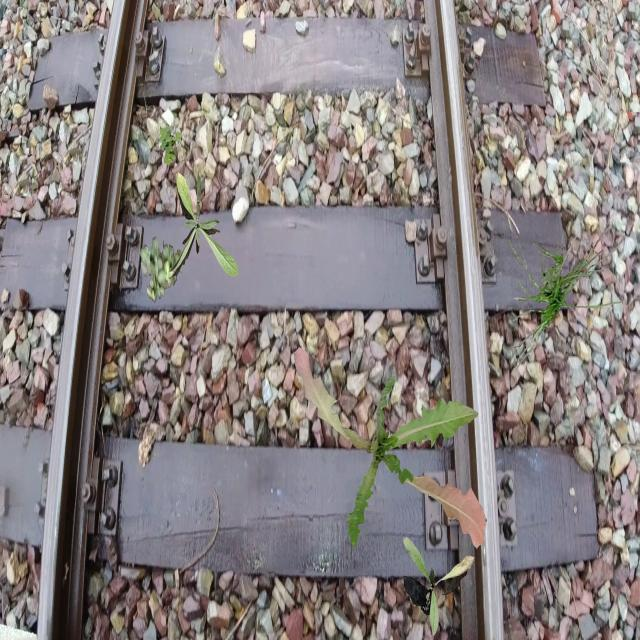Plant: (294, 347, 486, 550), (505, 207, 624, 370), (167, 171, 238, 279), (403, 537, 474, 636), (139, 236, 182, 302), (158, 125, 182, 166)
